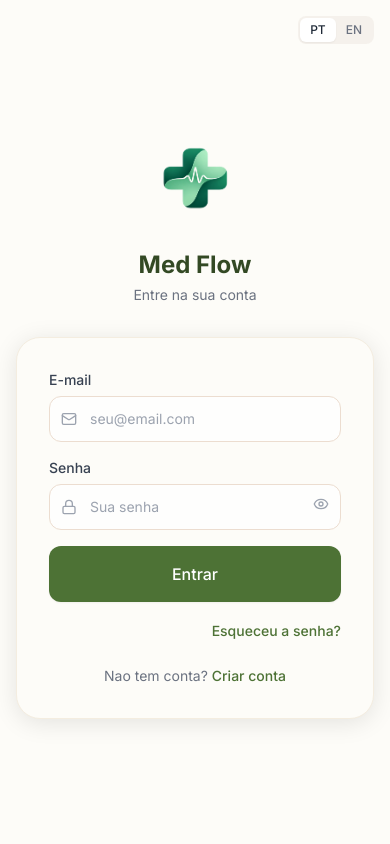
Test: Login Journey › shows validation error when email is empty on submit
This screenshot has width=390, height=844.
Type "password123" into the password field with placeholder "Sua senha". click: (195, 507)
box: [49,484,341,530]
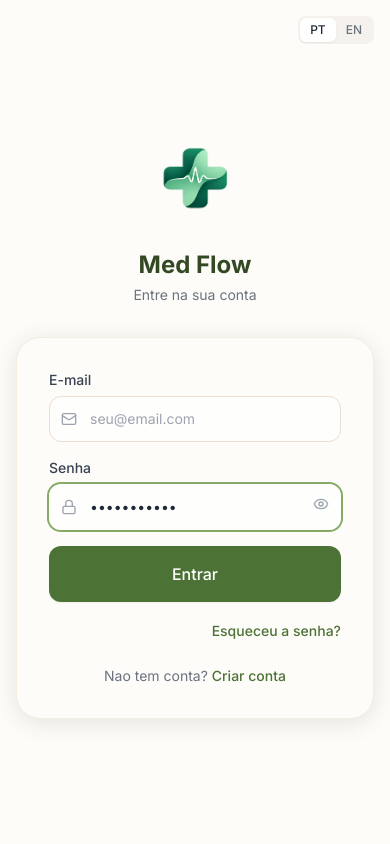
Click the button "Entrar". click: (195, 574)
box: [49,546,341,602]
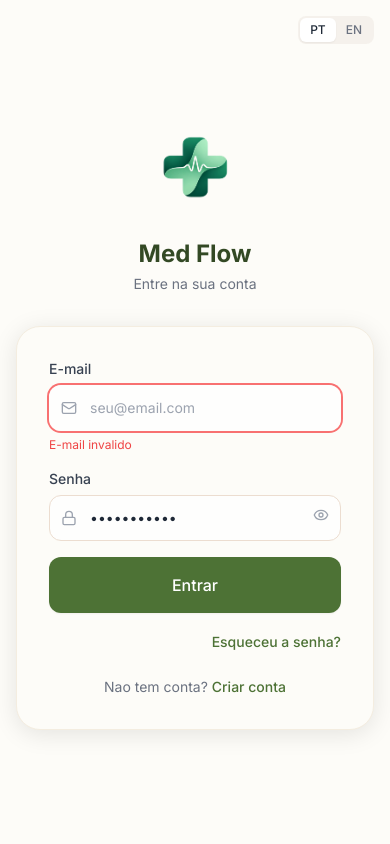
Expected: the text "E-mail invalido" is shown, [49,437,132,452]
